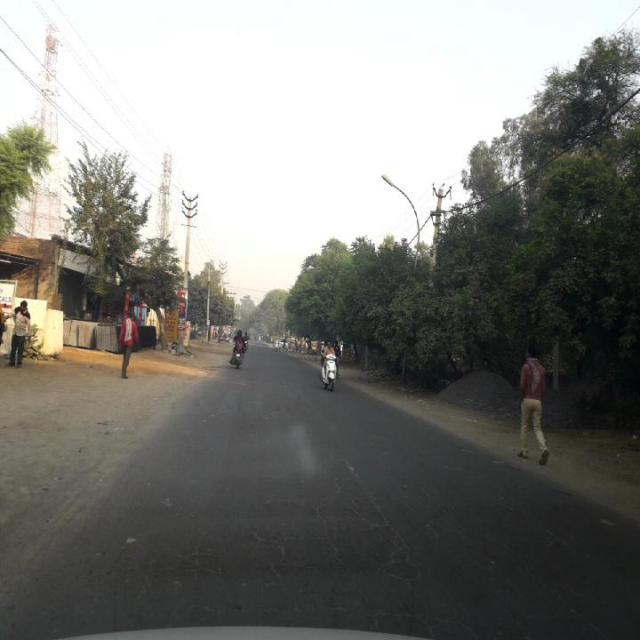crack: (204, 456, 442, 628)
